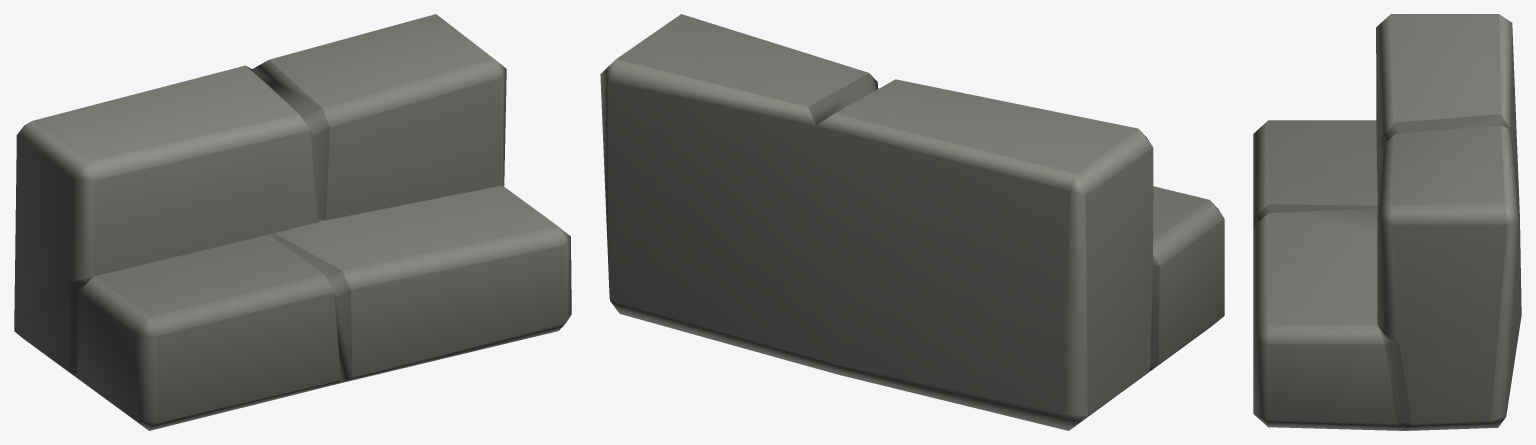
Rendered from stairs_half_1_shade_2.fbx.
The picture shows the model from 3 angles, left to right: view 1: azimuth 30°, elevation 25°; view 2: azimuth 150°, elevation 25°; view 3: azimuth 270°, elevation 25°; orthographic projection. The views are drawn at different scales.
Visible parts, largest first — view 1: stairs_half_1_shade_2; view 2: stairs_half_1_shade_2; view 3: stairs_half_1_shade_2.
Boxes of the visible parts, x1,y1,x2,y2 form: stairs_half_1_shade_2: (14,14,571,430); stairs_half_1_shade_2: (600,14,1224,430); stairs_half_1_shade_2: (1253,14,1521,430).
Bounding box in the file's own units: 100 × 50.87 × 54.57.
